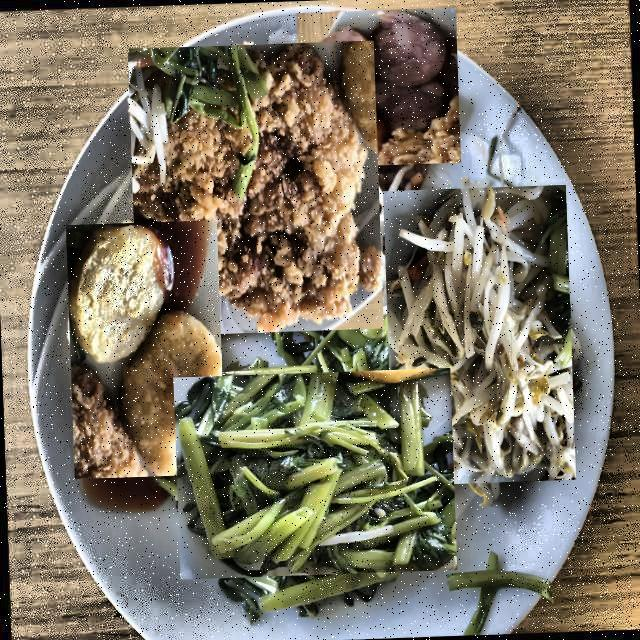Food: (126, 39, 384, 336), (190, 350, 439, 598), (381, 184, 576, 486), (65, 218, 226, 478), (298, 6, 460, 169)
